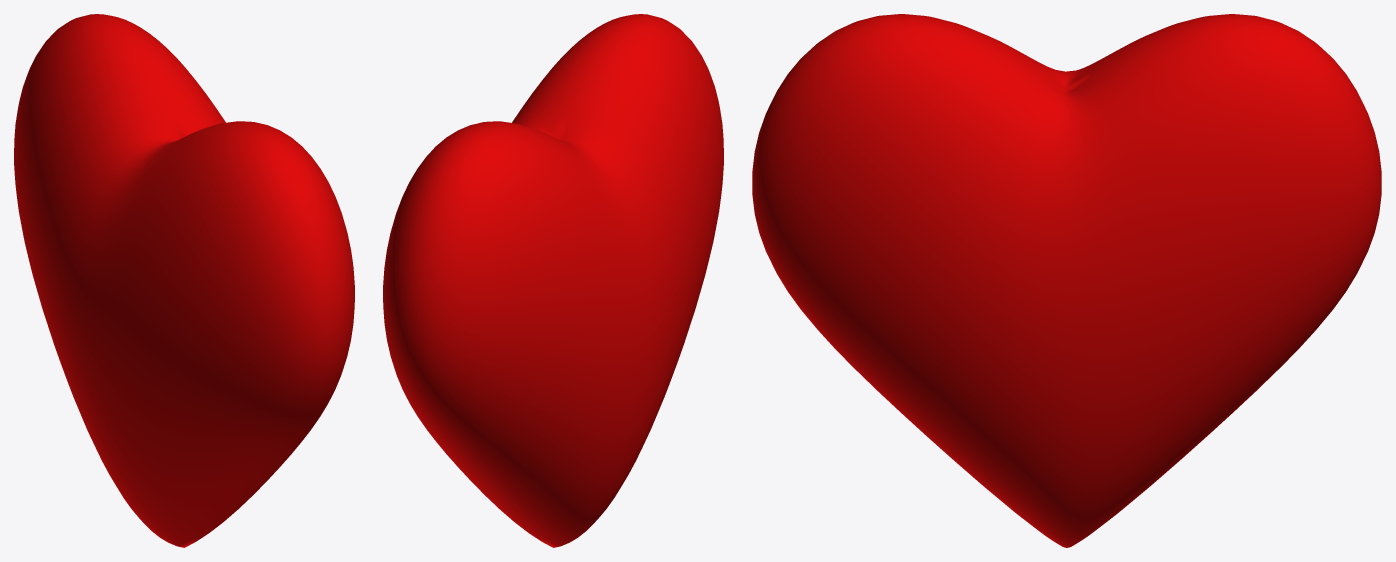
File: heart2.fbx
3 views of the same model, side by side, from view 1: azimuth 30°, elevation 25°; view 2: azimuth 150°, elevation 25°; view 3: azimuth 270°, elevation 25° (orthographic). The views are drawn at different scales.
Visible parts, largest first — view 1: Heart; view 2: Heart; view 3: Heart.
Part boxes in pixels (x1,y1,x2,y2): Heart: (14, 14, 354, 547); Heart: (383, 14, 723, 547); Heart: (752, 14, 1381, 547).
Bounding box in the file's own units: 59.95 × 139 × 150.
1 material, 1 textured.
